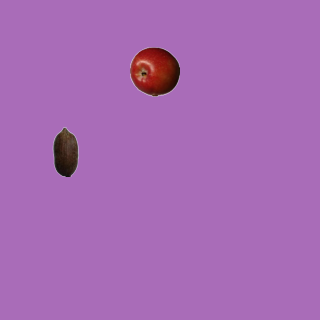Apple Braeburn: (129, 46, 179, 96)
Nut Pecan: (40, 126, 90, 176)
